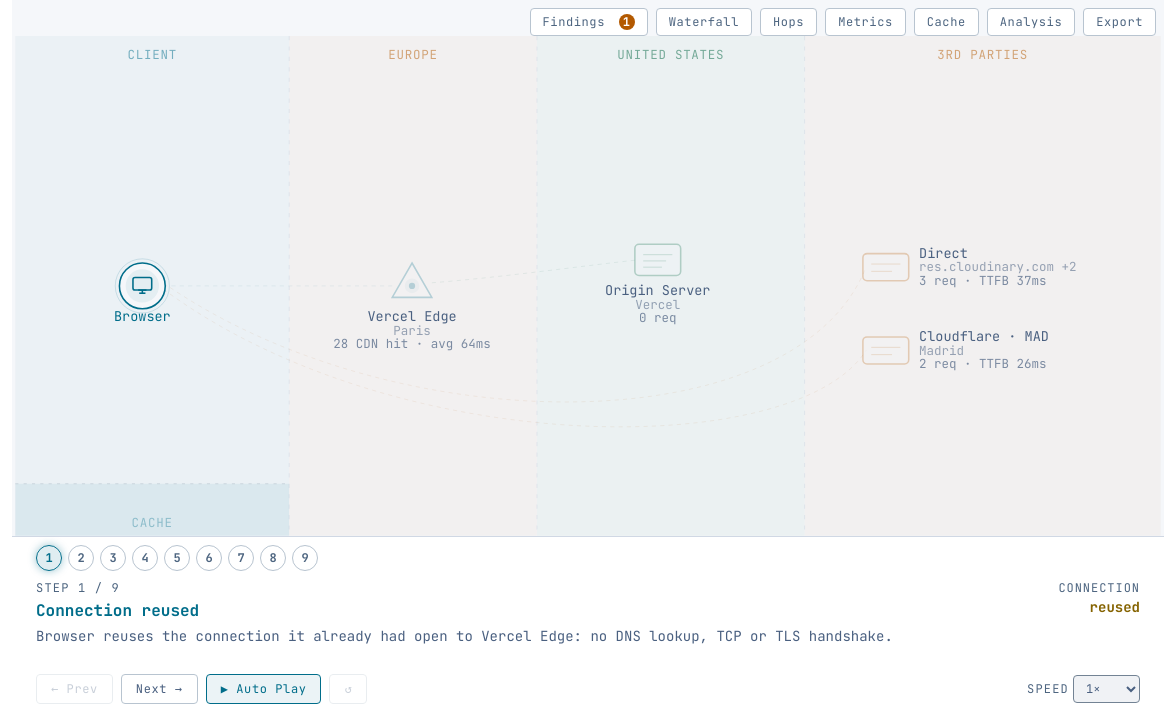
Scenario: DiagramView › resource sidebar › summarises every page resource on the last step, domains first
Step 1. Click the tab "9" → click(305, 558), box [292, 545, 318, 571]
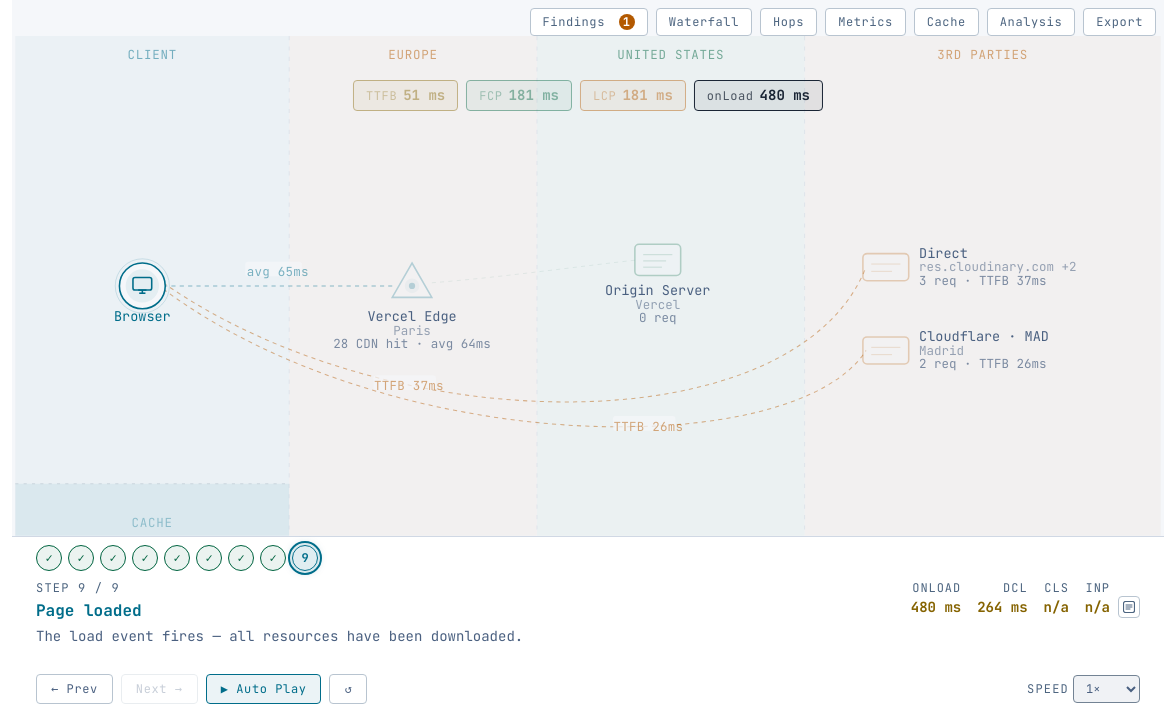
Step 2. Click the button named "View resource list" → click(1129, 607), box [1118, 596, 1140, 618]
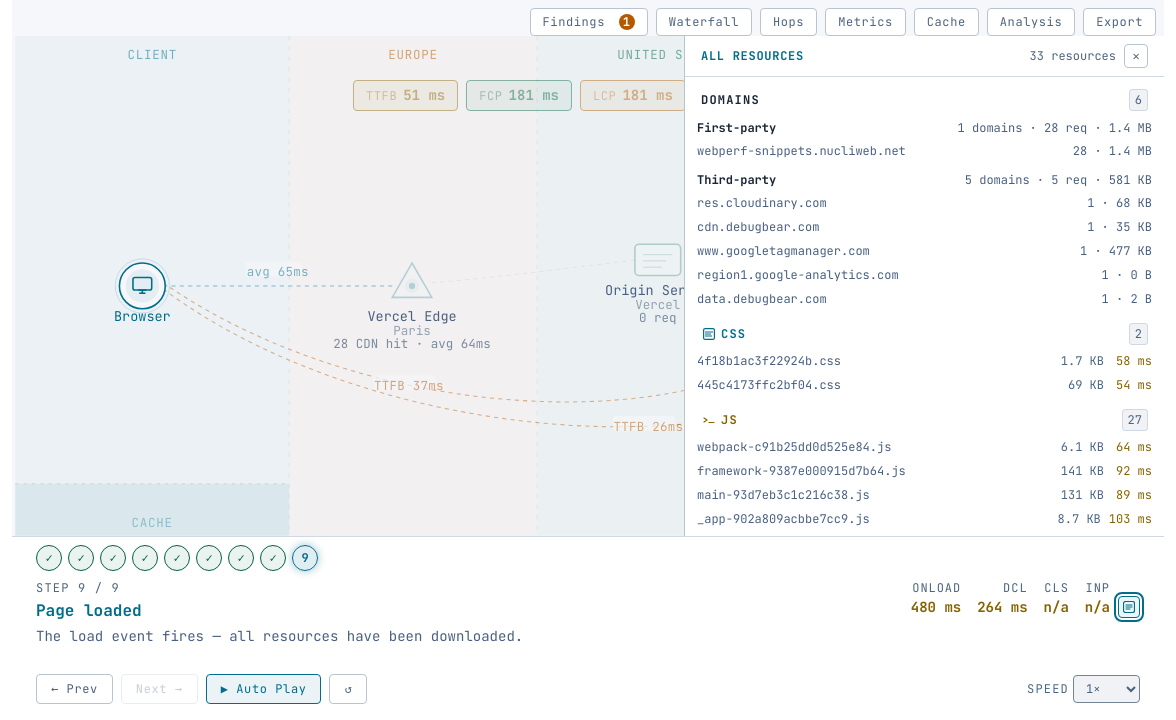
Expected: the text "All resources" is shown, [701, 48, 804, 64]
Expected: the text "First-party" is shown, [697, 119, 776, 137]
Expected: the text "Third-party" is shown, [697, 171, 776, 189]
